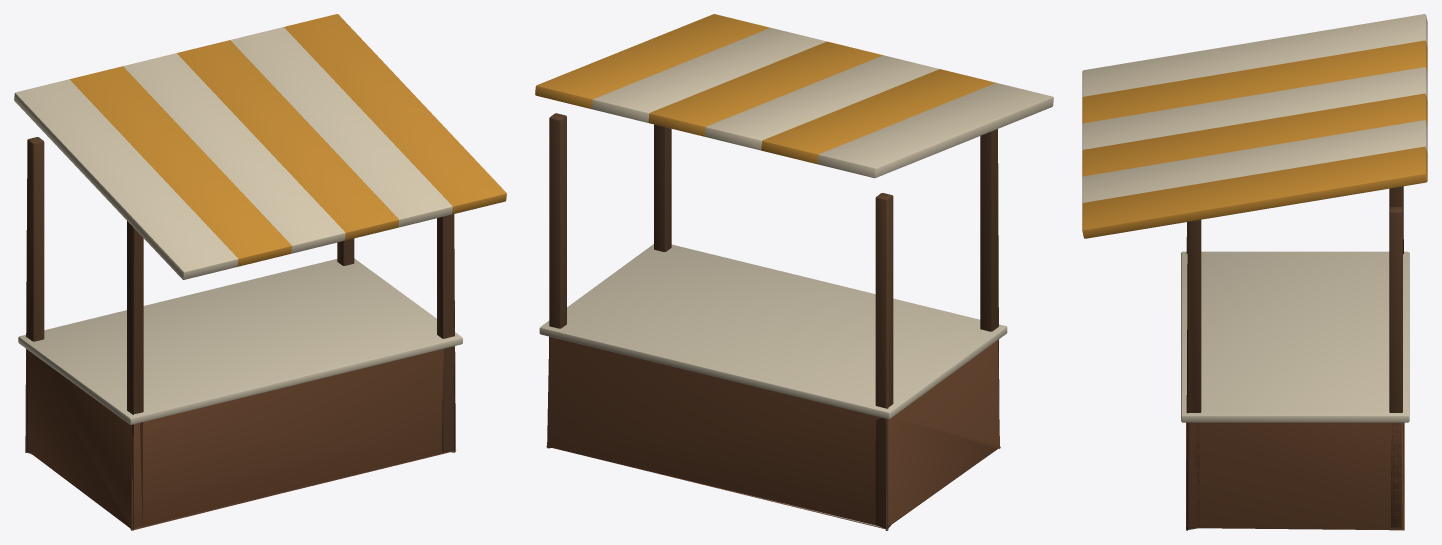
File: st-s2cgcp.glb
3 renders of one model, left to right at view 1: azimuth 30°, elevation 25°; view 2: azimuth 150°, elevation 25°; view 3: azimuth 270°, elevation 25°, orthographic. The views are drawn at different scales.
Bounding box in the file's own units: 2.9 × 2.93 × 2.57.
